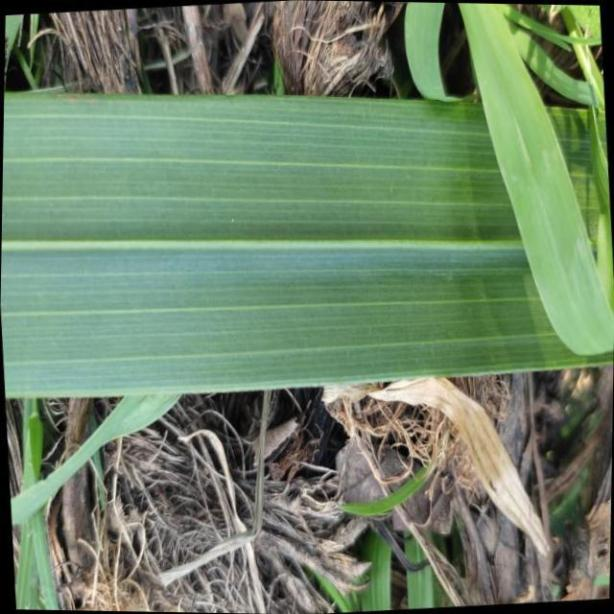Healthy: (0, 90, 614, 400)
